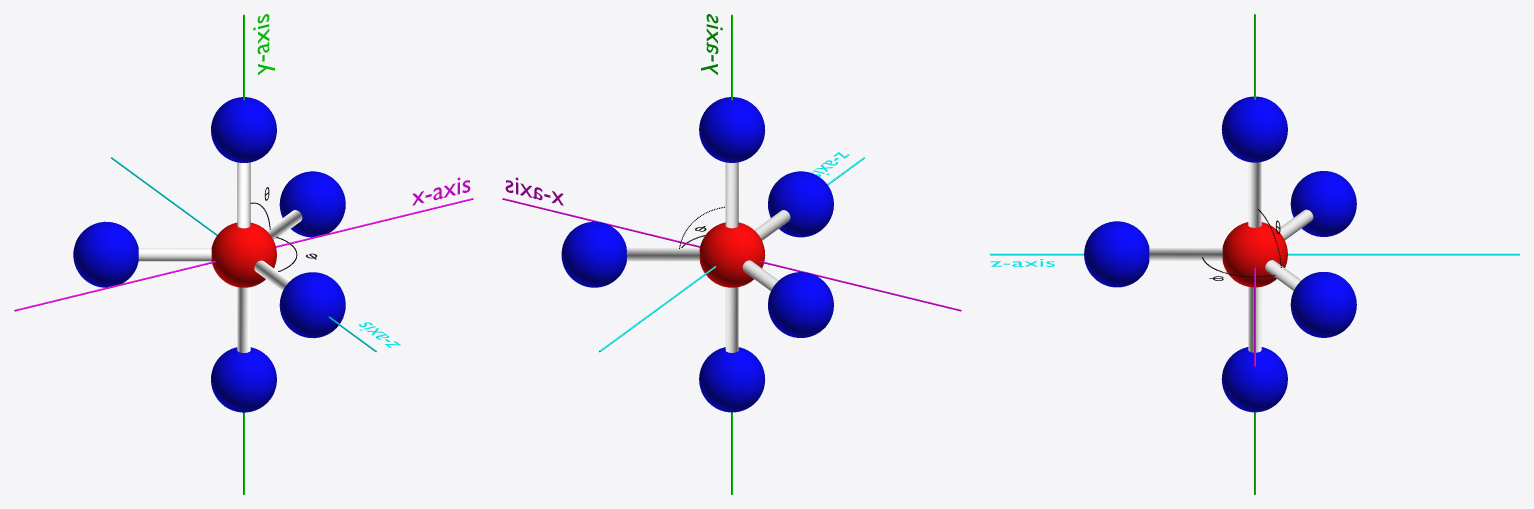
File: trigonal_bipyramidal_coor.glb
3 views of the same model, side by side, from view 1: azimuth 30°, elevation 25°; view 2: azimuth 150°, elevation 25°; view 3: azimuth 270°, elevation 25° (orthographic).
Parts seen in each view (by area): view 1: 1 trigonal_bipyramidal, Cylinder.001; view 2: 1 trigonal_bipyramidal, Cylinder.001; view 3: 1 trigonal_bipyramidal, Cylinder.002.
Boxes of the visible parts, bbox=[...] form: 1 trigonal_bipyramidal: bbox=[73, 97, 345, 412]; Cylinder.001: bbox=[14, 198, 473, 311]; 1 trigonal_bipyramidal: bbox=[561, 97, 833, 412]; Cylinder.001: bbox=[502, 198, 961, 311]; 1 trigonal_bipyramidal: bbox=[1084, 96, 1356, 412]; Cylinder.002: bbox=[990, 253, 1519, 255].
Bounding box in the file's own units: 6 × 6 × 6.
Materials: 13 (2 with a texture image).
